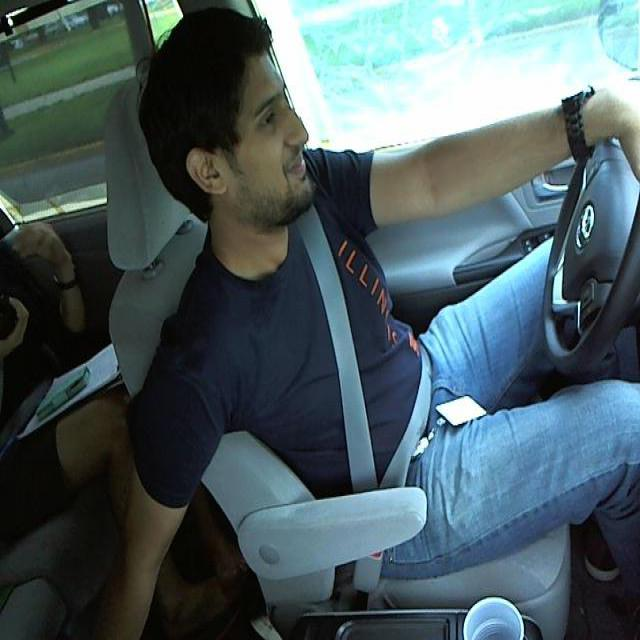seatbelt: (294, 232, 441, 487)
